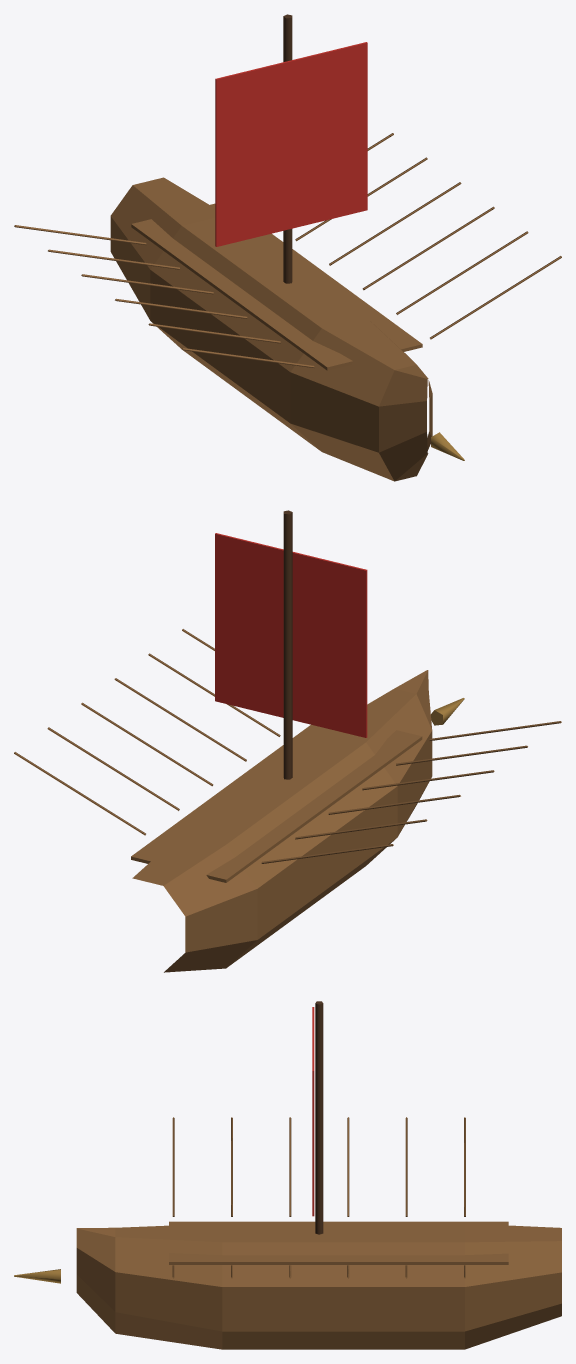
The model's file is veh_naval_warship_a02.glb.
3 views of the same model, one above another, from view 1: azimuth 30°, elevation 25°; view 2: azimuth 150°, elevation 25°; view 3: azimuth 270°, elevation 25° (orthographic). The views are drawn at different scales.
Visible parts, largest first — view 1: body, sail_0; view 2: body, sail_0; view 3: body, sail_0.
Boxes of the visible parts, bbox=[...] form: body: bbox=[14, 14, 561, 481]; sail_0: bbox=[215, 42, 367, 246]; body: bbox=[14, 510, 561, 972]; sail_0: bbox=[215, 533, 367, 737]; body: bbox=[14, 1001, 561, 1349]; sail_0: bbox=[312, 1007, 314, 1216].
Size of what is drawn, in the model's own units: 9.7 by 9.51 by 14.
